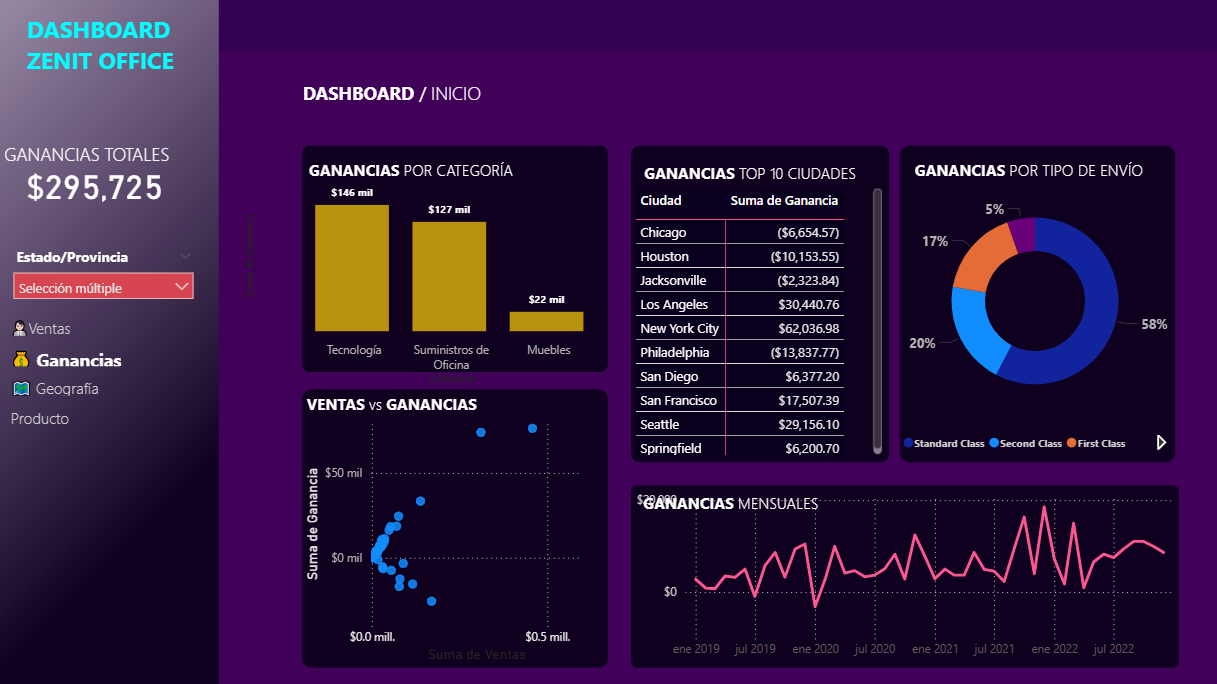

What the dashboard file says about the page in this screenshot:
{"tool":"powerbi","page":{"name":"💰 Ganancias","canvas":[1280,720],"ordinal":1},"visuals":[{"type":"textbox","box":[308.6,86,211,40.8],"z":0},{"type":"textbox","box":[28.4,16,169.4,84.2],"z":1000},{"type":"card","fields":{"Values":["Sum(Supertienda Español.Ganancia)"]},"box":[0,157.3,207.2,82.9],"z":2000},{"type":"textbox","box":[4.7,150,193.2,34.7],"z":3000},{"type":"clusteredColumnChart","fields":{"Category":["Supertienda Español.Categoria"],"Y":["Sum(Supertienda Español.Ganancia)"]},"box":[255.2,180.8,407.8,230.8],"z":4000},{"type":"textbox","box":[317.4,149.8,232.6,62.2],"z":5000},{"type":"lineChart","fields":{"Category":["Supertienda Español.Fecha de Orden.Variación.Jerarquía de fechas.Año","Supertienda Español.Fecha de Orden.Variación.Jerarquía de fechas.Mes"],"Y":["Sum(Supertienda Español.Ganancia)"]},"box":[663.1,514.3,572.7,187.4],"z":6000},{"type":"textbox","box":[650.2,496.5,233.2,62.3],"z":7000},{"type":"pivotTable","fields":{"Values":["Sum(Supertienda Español.Ganancia)"],"Rows":["Supertienda Español.Ciudad"]},"box":[663.1,198.7,266.5,287.3],"z":8000},{"type":"donutChart","fields":{"Category":["Supertienda Español.Modo de Envio"],"Y":["Sum(Supertienda Español.Ganancia)"]},"box":[941.5,180.6,284.8,305.2],"z":9000},{"type":"textbox","box":[662,152.6,248.3,62.3],"z":10000},{"type":"textbox","box":[941.5,149.4,273,61.3],"z":11000},{"type":"scatterChart","fields":{"X":["Sum(Supertienda Español.Ventas)"],"Y":["Sum(Supertienda Español.Ganancia)"],"Category":["Supertienda Español.Estado/Provincia"]},"box":[317,433.1,323.5,268.7],"z":12000},{"type":"textbox","box":[296.6,394.4,233.2,62.3],"z":13000},{"type":"slicer","fields":{"Values":["Supertienda Español.Estado/Provincia"]},"box":[8.6,260.1,207.4,73.1],"z":14000},{"type":"pageNavigator","box":[15,336.8,193.6,115.5],"z":15000}]}

Visuals, with their boxes on the page's 1280x720 design canvas (x1, y1, x2, y2). These are canvas units, not pixel positions in the 1217x684 screenshot, which may show the page scaled, cropped or inside an application window:
textbox: <box>309,86,520,127</box>
textbox: <box>28,16,198,100</box>
card - Sum(Supertienda Español.Ganancia): <box>0,157,207,240</box>
textbox: <box>5,150,198,185</box>
clusteredColumnChart - Supertienda Español.Categoria x Sum(Supertienda Español.Ganancia): <box>255,181,663,412</box>
textbox: <box>317,150,550,212</box>
lineChart - Supertienda Español.Fecha de Orden.Variación.Jerarquía de fechas.Año x Supertienda Español.Fecha de Orden.Variación.Jerarquía de fechas.Mes: <box>663,514,1236,702</box>
textbox: <box>650,496,883,559</box>
pivotTable - Sum(Supertienda Español.Ganancia) x Supertienda Español.Ciudad: <box>663,199,930,486</box>
donutChart - Supertienda Español.Modo de Envio x Sum(Supertienda Español.Ganancia): <box>942,181,1226,486</box>
textbox: <box>662,153,910,215</box>
textbox: <box>942,149,1214,211</box>
scatterChart - Sum(Supertienda Español.Ventas) x Sum(Supertienda Español.Ganancia): <box>317,433,640,702</box>
textbox: <box>297,394,530,457</box>
slicer - Supertienda Español.Estado/Provincia: <box>9,260,216,333</box>
pageNavigator: <box>15,337,209,452</box>
